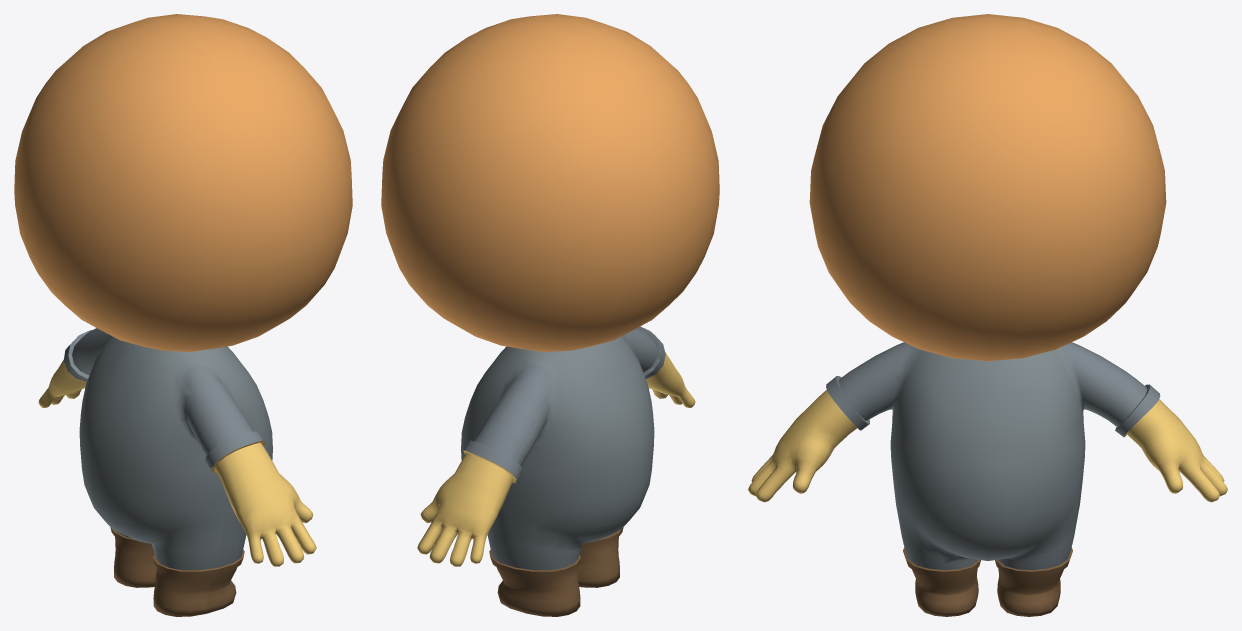
Rendered from Soldierlastlast.fbx.
3 views of the same model, side by side, from view 1: azimuth 30°, elevation 25°; view 2: azimuth 150°, elevation 25°; view 3: azimuth 270°, elevation 25° (orthographic). The views are drawn at different scales.
Visible parts, largest first — view 1: Fat_Soldier; view 2: Fat_Soldier; view 3: Fat_Soldier.
Boxes of the visible parts, left/top/right/bottom form: Fat_Soldier: left=14, top=14, right=352, bottom=616; Fat_Soldier: left=381, top=14, right=719, bottom=616; Fat_Soldier: left=748, top=14, right=1227, bottom=616.
Bounding box in the file's own units: 36.23 × 65.97 × 50.07.
